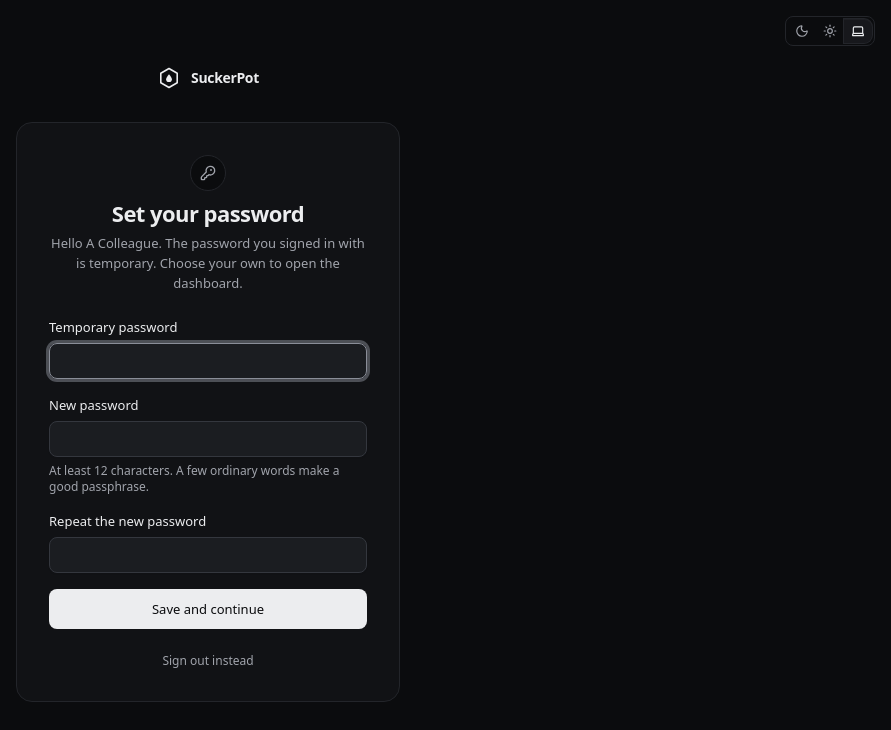
Test: first sign-in › checks the new password before sending anything
Type "temp-password-1" into the password field labelled "Temporary password" at {"x": 208, "y": 361}, box [49, 343, 367, 379]
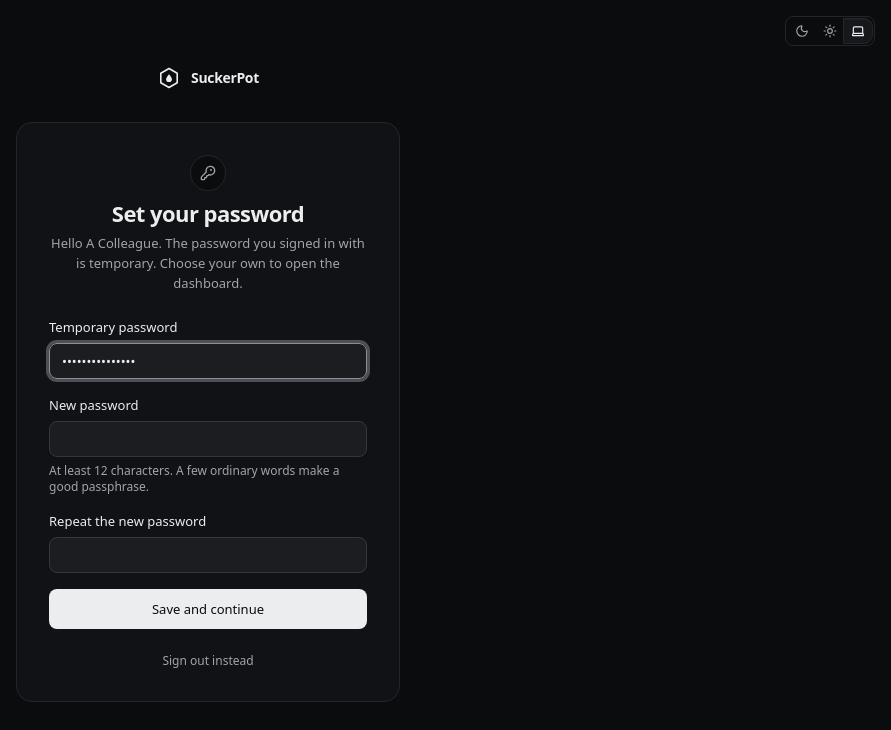
Type "short" into the password field labelled "New password" at {"x": 208, "y": 439}, box [49, 421, 367, 457]
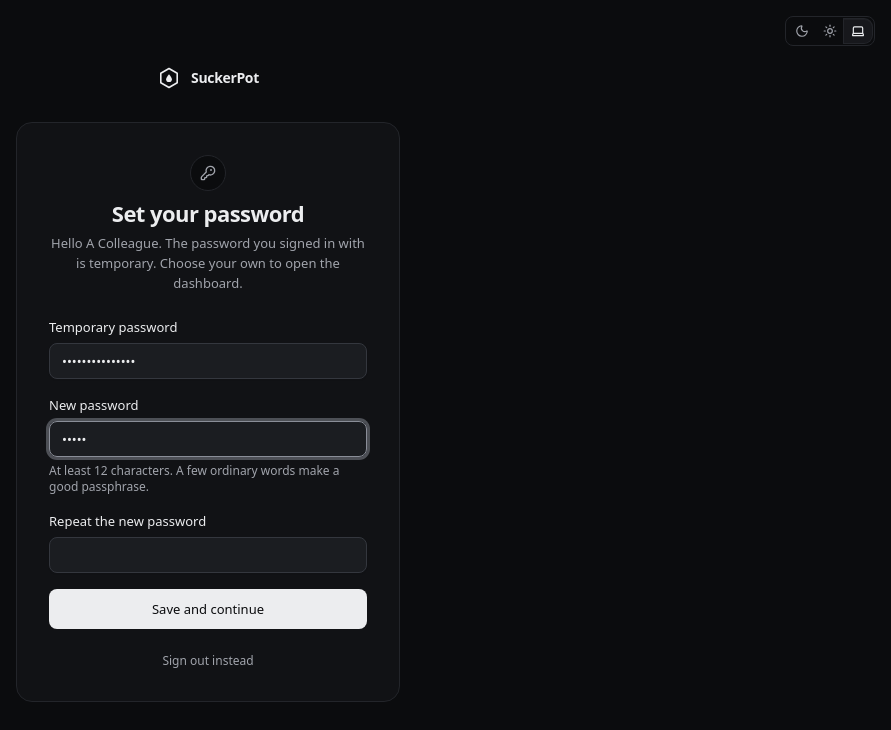
Click the button "Save and continue" at {"x": 208, "y": 609}, box [49, 589, 367, 629]
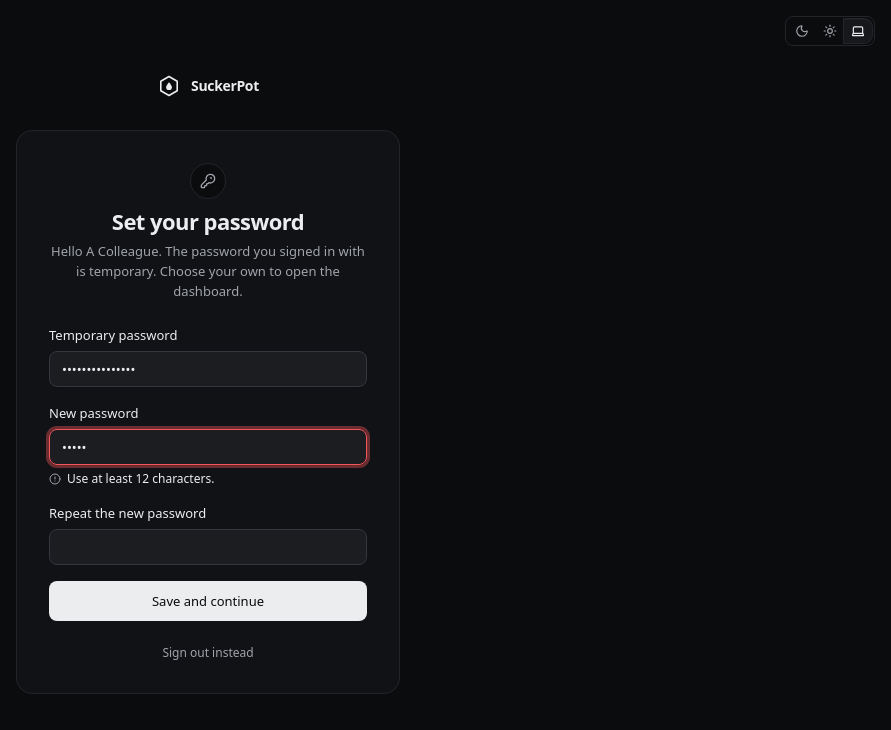
Result: the text "Use at least 12 characters." is shown at [49, 470, 214, 487]
Type "a long passphrase 2026" into the password field labelled "New password" at {"x": 208, "y": 447}, box [49, 429, 367, 465]
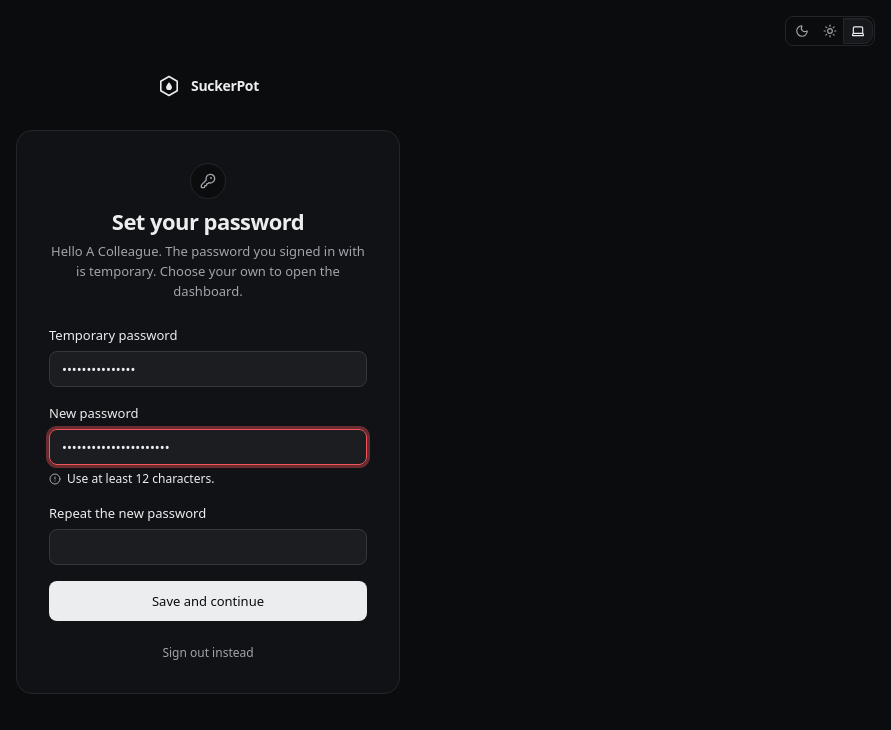
Type "a different passphrase" into the password field labelled "Repeat the new password" at {"x": 208, "y": 547}, box [49, 529, 367, 565]
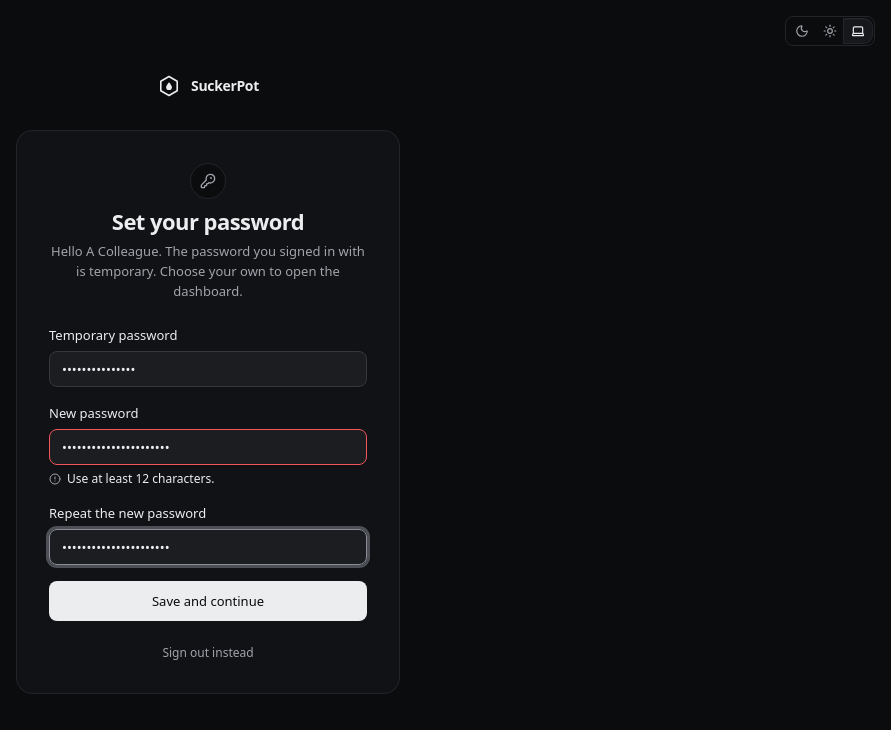
Click the button "Save and continue" at {"x": 208, "y": 601}, box [49, 581, 367, 621]
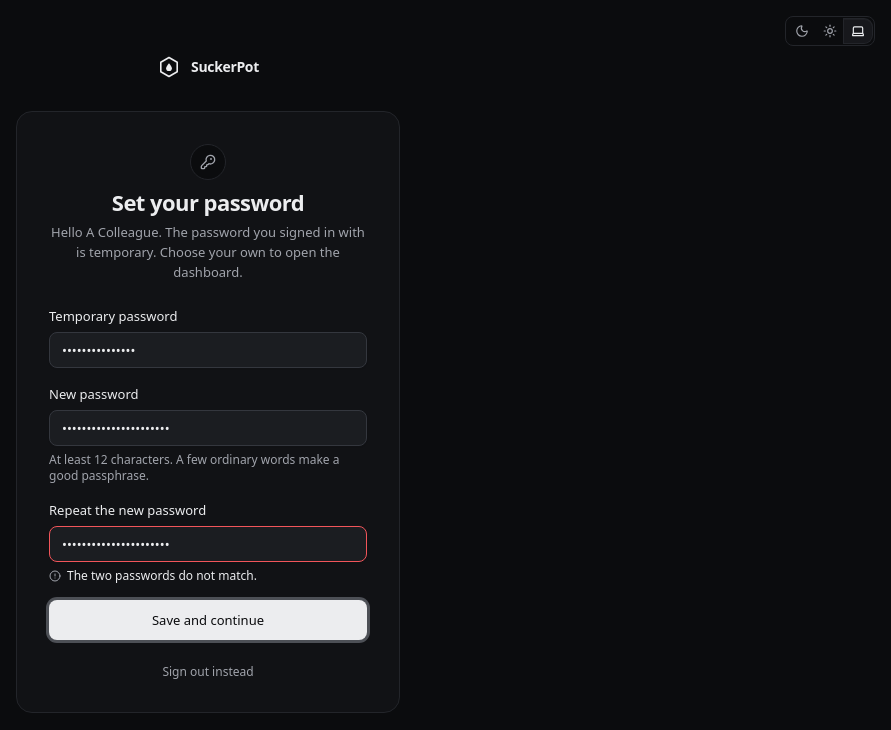
Result: the text "The two passwords do not match." is shown at [49, 567, 257, 584]
